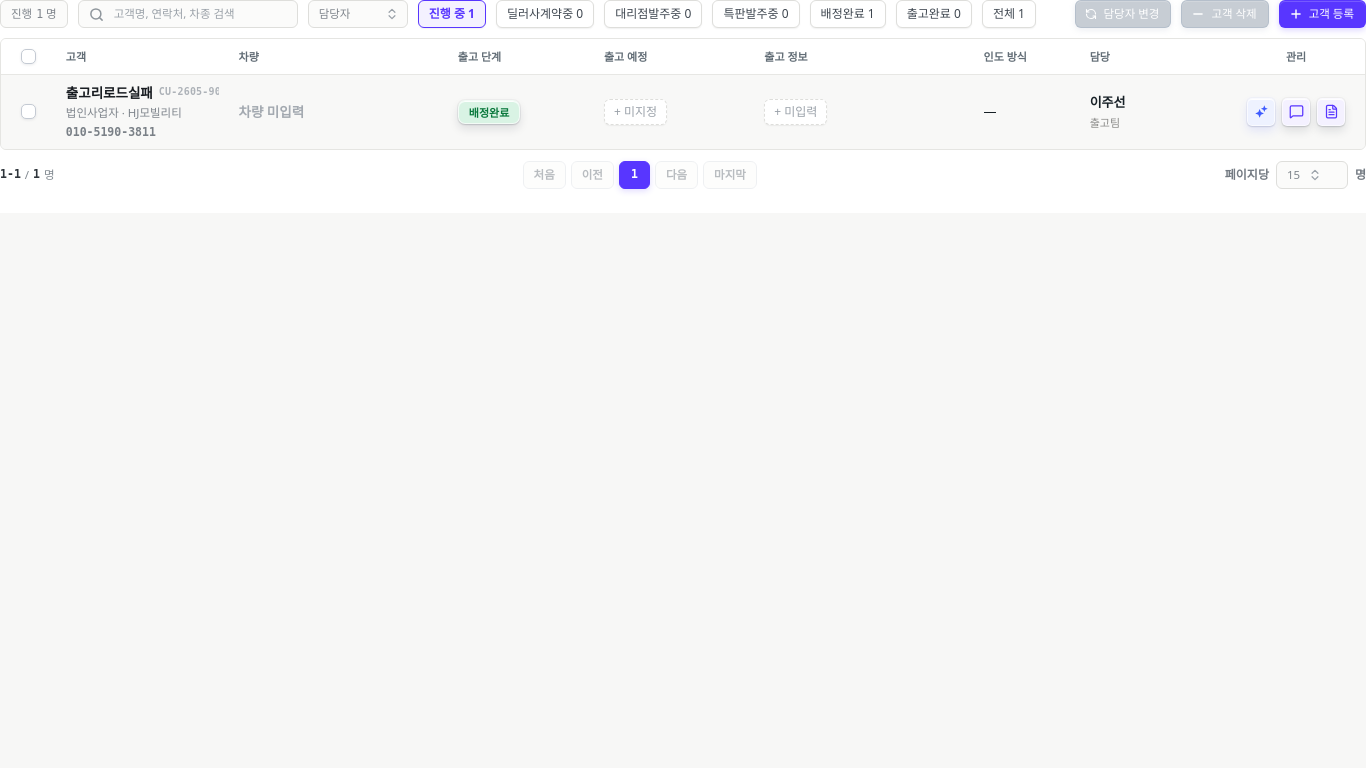
Scenario: 출고 관리(delivery) 콘솔 › 저장 후 리로드 실패(false)면 팝오버를 유지하고 안내를 보여준다
Click the button with aria-label "출고 예정 입력:" at (636, 112), box [604, 99, 667, 125]
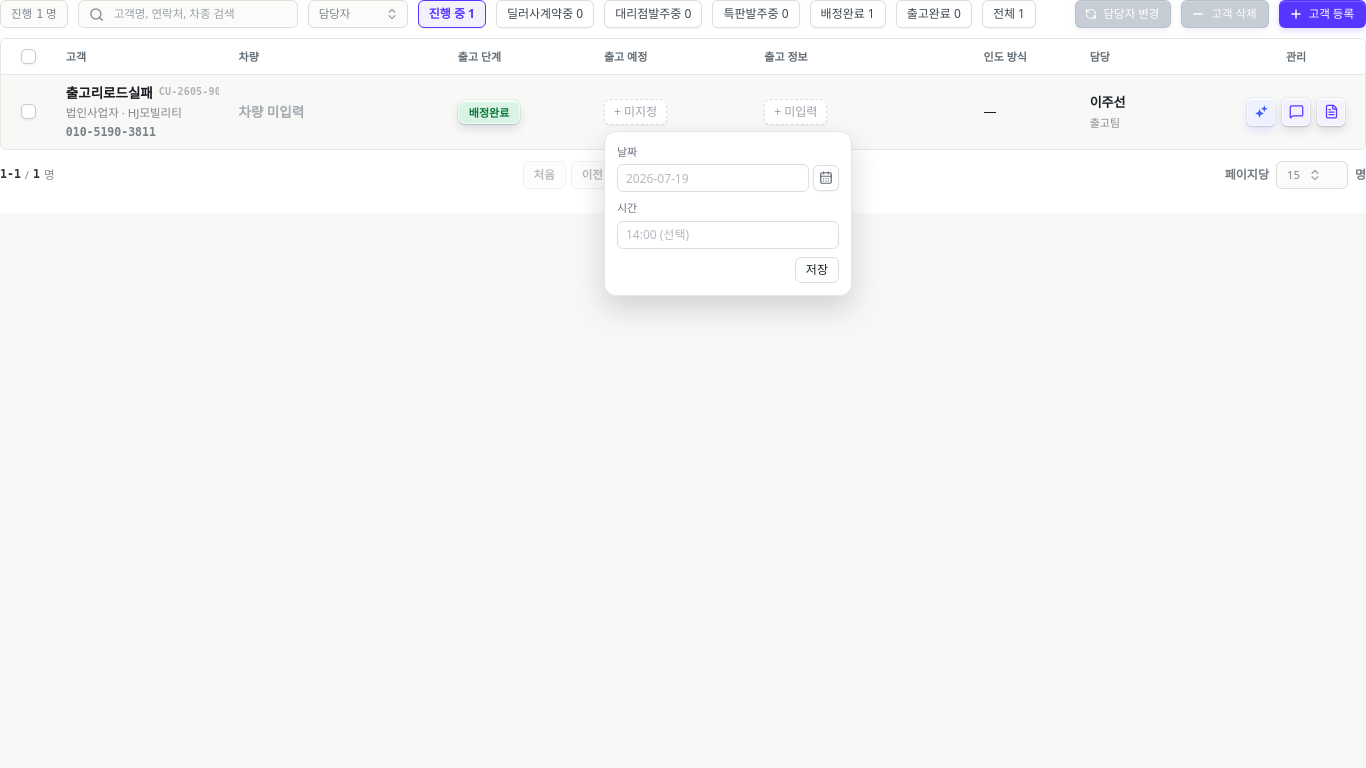
Type "2026-07-24" into the field labelled "날짜" at (713, 178), box [617, 164, 809, 192]
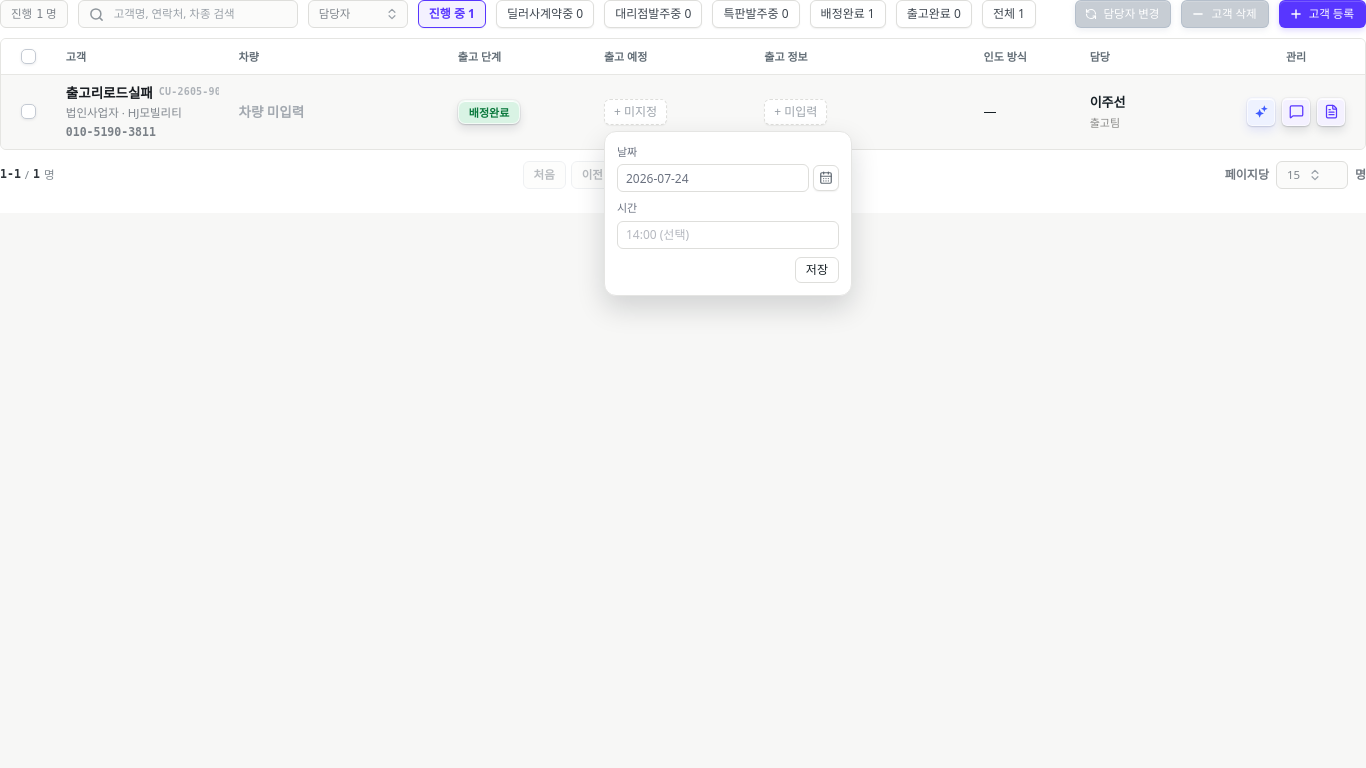
Click the button "저장" at (817, 270), box [795, 257, 839, 283]
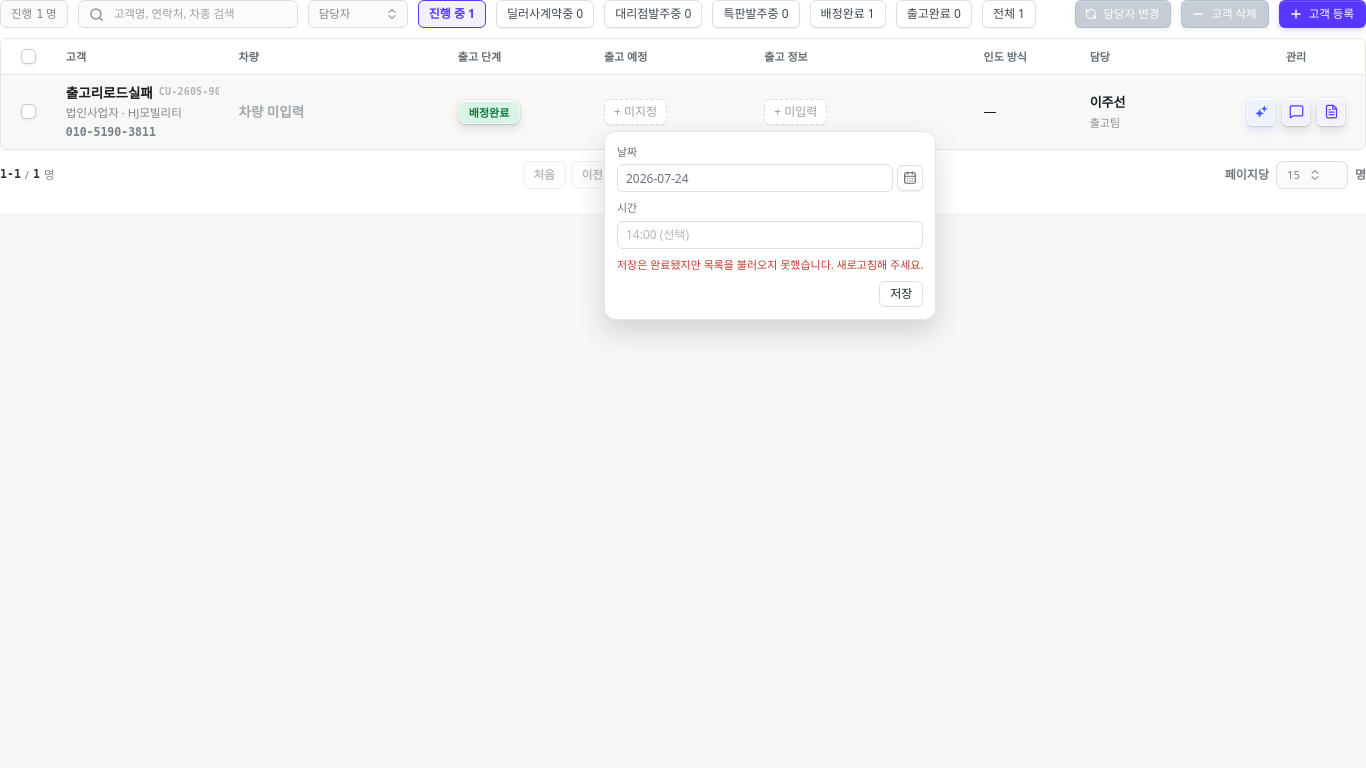
Result: the dialog named "출고 예정 편집" is shown at [604, 131, 936, 320]
Result: the message shows "목록을 불러오지" at [617, 257, 923, 272]
